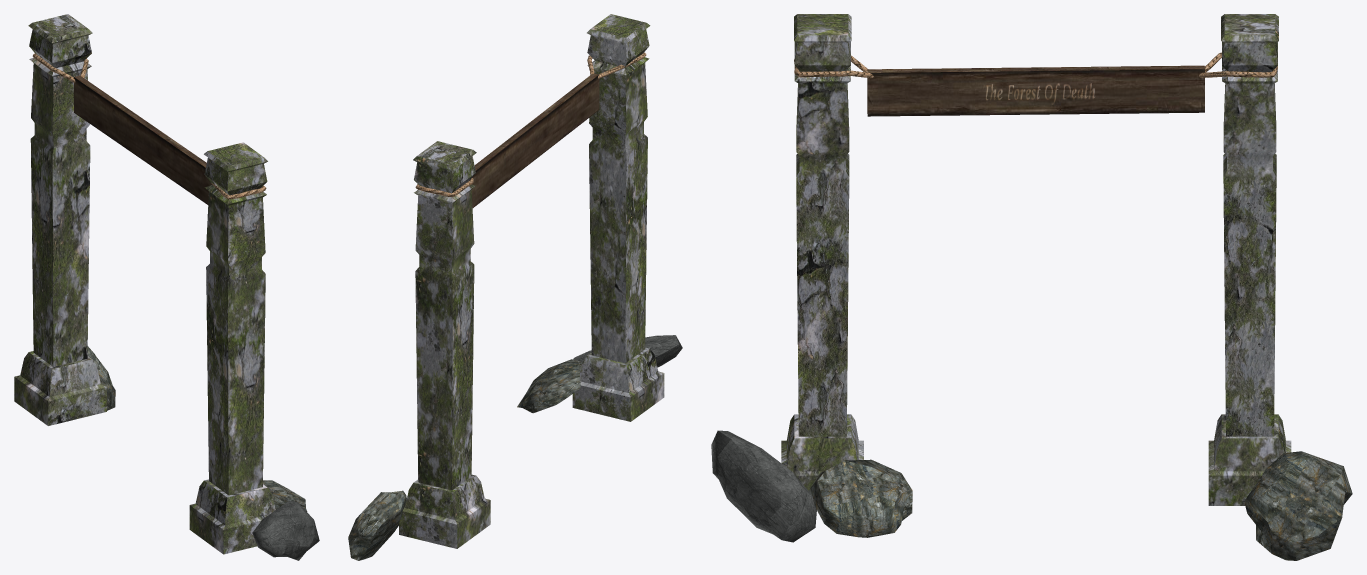
Rendered from POORT.fbx.
3 views of the same model, side by side, from view 1: azimuth 30°, elevation 25°; view 2: azimuth 150°, elevation 25°; view 3: azimuth 270°, elevation 25° (orthographic). The views are drawn at different scales.
Parts seen in each view (by area): view 1: pCube57, pCube56, pCube58, rock0017, rock0016, rock0018; view 2: pCube57, pCube56, pCube58, rock0018, rock0016, rock0017; view 3: pCube57, pCube56, pCube58, rock0018, rock0017, rock0016.
Boxes of the visible parts, x1,y1,x2,y2 form: pCube57: [14, 14, 106, 425]; pCube56: [189, 142, 275, 554]; pCube58: [74, 75, 212, 204]; rock0017: [252, 500, 319, 560]; rock0016: [263, 480, 307, 511]; rock0018: [87, 346, 115, 410]; pCube57: [399, 141, 490, 548]; pCube56: [572, 14, 664, 421]; pCube58: [471, 73, 599, 207]; rock0018: [348, 490, 406, 560]; rock0016: [517, 359, 582, 413]; rock0017: [573, 335, 682, 367]; pCube57: [1208, 14, 1291, 505]; pCube56: [781, 14, 863, 490]; pCube58: [867, 65, 1204, 116]; rock0018: [1244, 451, 1352, 560]; rock0017: [711, 430, 816, 542]; rock0016: [808, 459, 912, 537].
Size of the model in its own units: 0.3005 by 1.11 by 1.28.
Materials: 5 (5 with a texture image).
